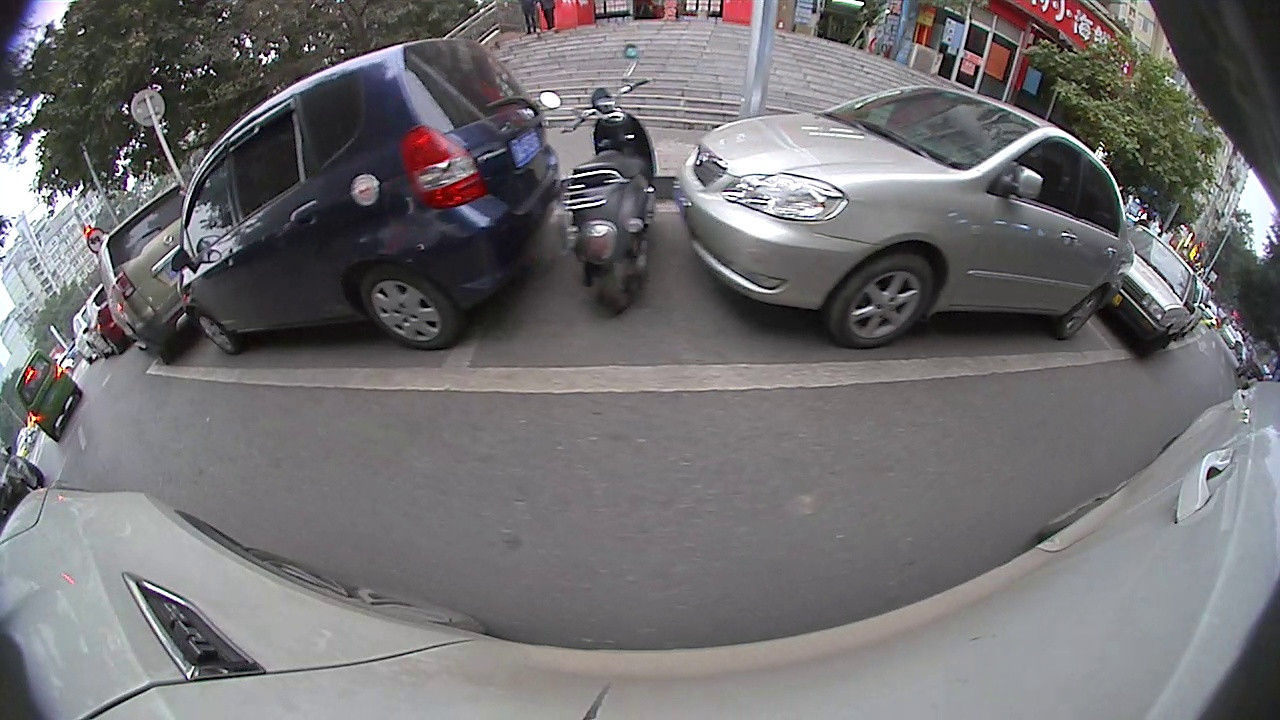car: (167, 32, 562, 358), (668, 79, 1130, 355), (91, 176, 208, 369), (1093, 219, 1205, 364), (11, 351, 86, 442)
front: (831, 254, 939, 341), (187, 310, 243, 359)
rear: (362, 271, 458, 348), (1058, 280, 1105, 344)
rider: (532, 38, 663, 322)
